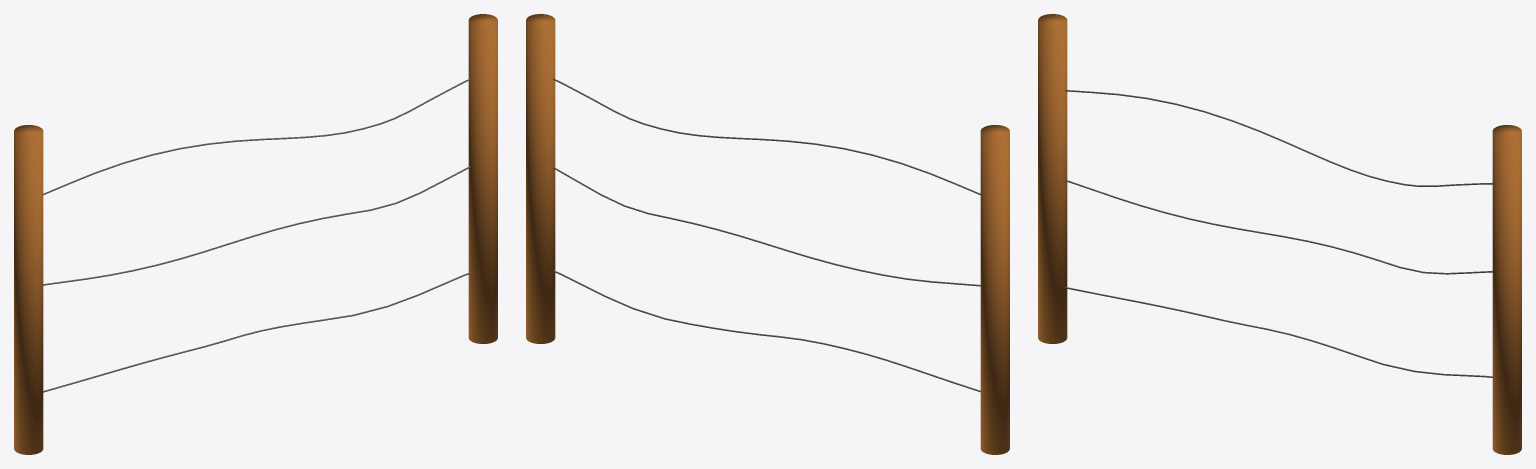
The model's file is wire_fence.fbx.
3 renders of one model, left to right at view 1: azimuth 30°, elevation 25°; view 2: azimuth 150°, elevation 25°; view 3: azimuth 330°, elevation 25°, orthographic.
Visible parts, largest first — view 1: Wire Fence; view 2: Wire Fence; view 3: Wire Fence.
Part boxes in pixels (left/top/right/bottom): Wire Fence: left=14, top=14, right=497, bottom=454; Wire Fence: left=526, top=14, right=1009, bottom=454; Wire Fence: left=1038, top=14, right=1521, bottom=454.
Size of the model in its own units: 190 by 120 by 10.
